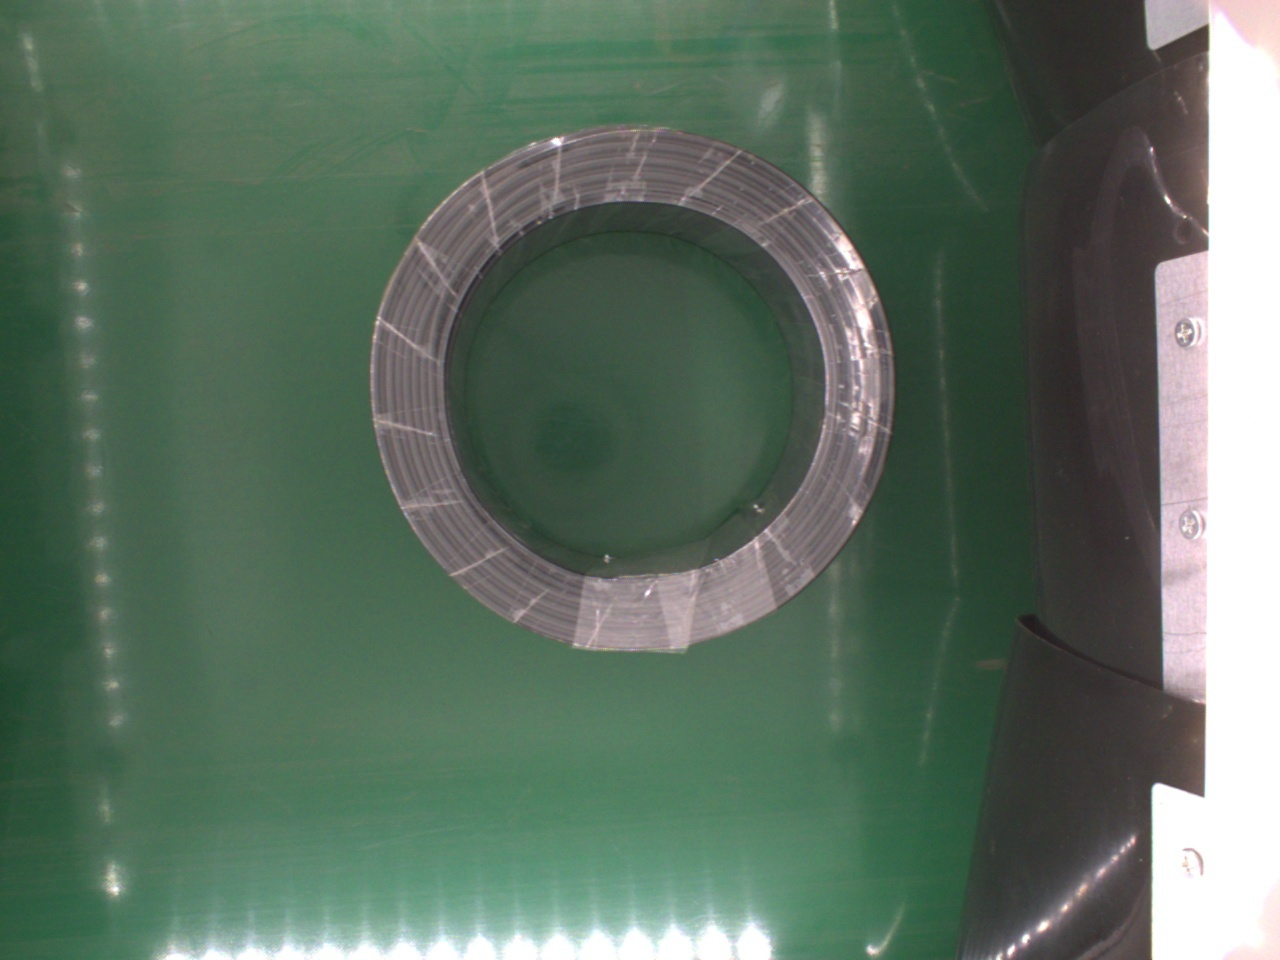black: (375, 122, 895, 659)
